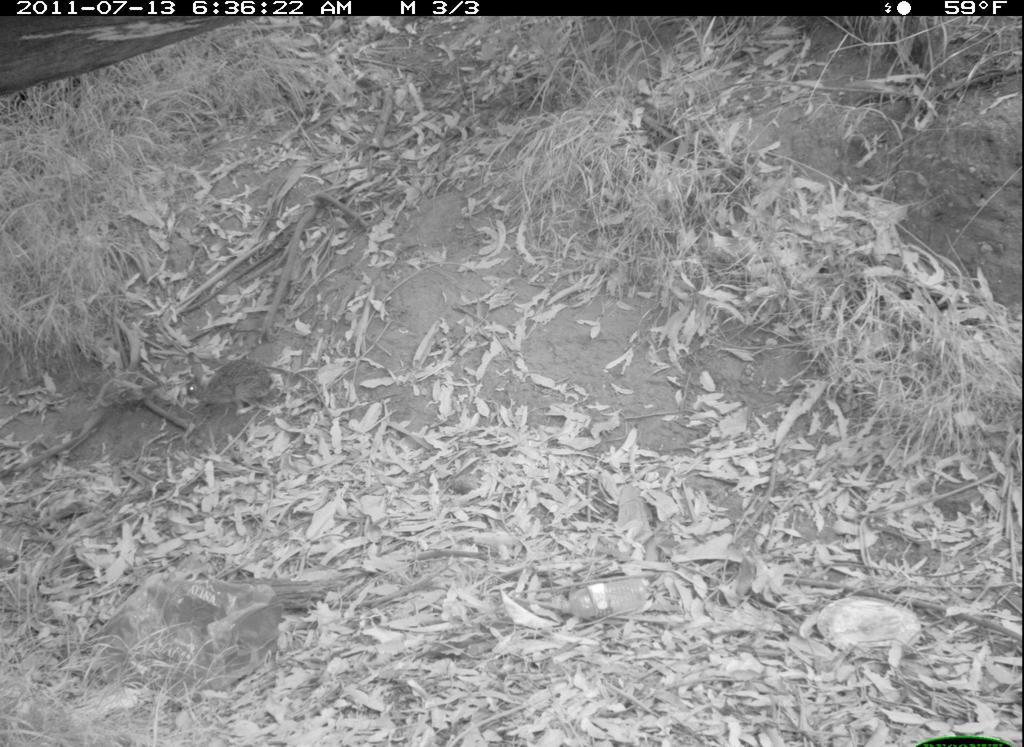rabbit: (178, 353, 300, 423)
